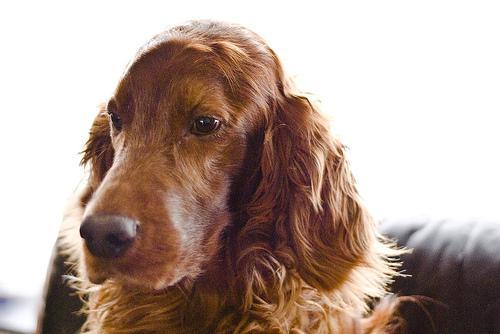Irish_setter: (56, 20, 417, 333)
